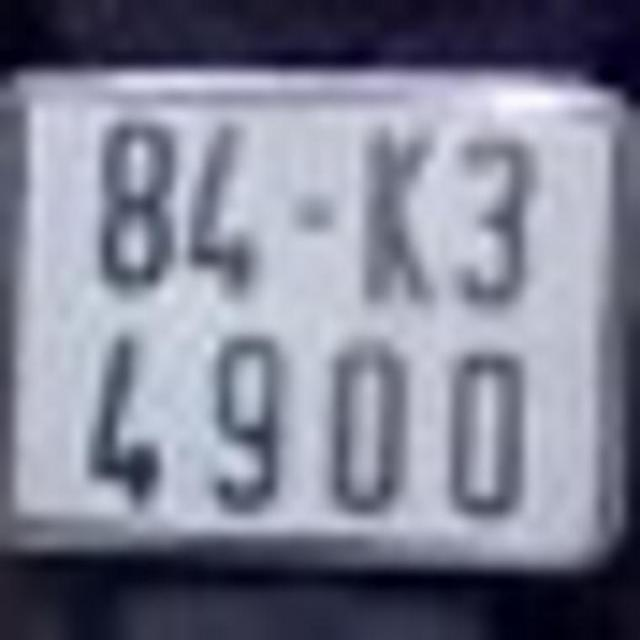0: (328, 329, 410, 513), (445, 344, 528, 524), (96, 114, 172, 289)
3: (454, 120, 533, 308)
4: (85, 324, 167, 516), (180, 118, 256, 292)
9: (205, 322, 282, 513)
K: (360, 115, 436, 306)
